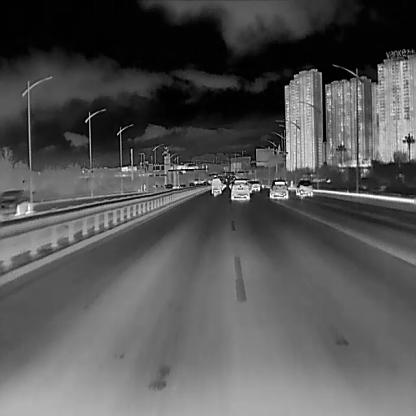car: (0, 190, 30, 214), (230, 178, 250, 202), (268, 179, 288, 199), (295, 178, 312, 196), (210, 177, 220, 194), (249, 180, 259, 192)
